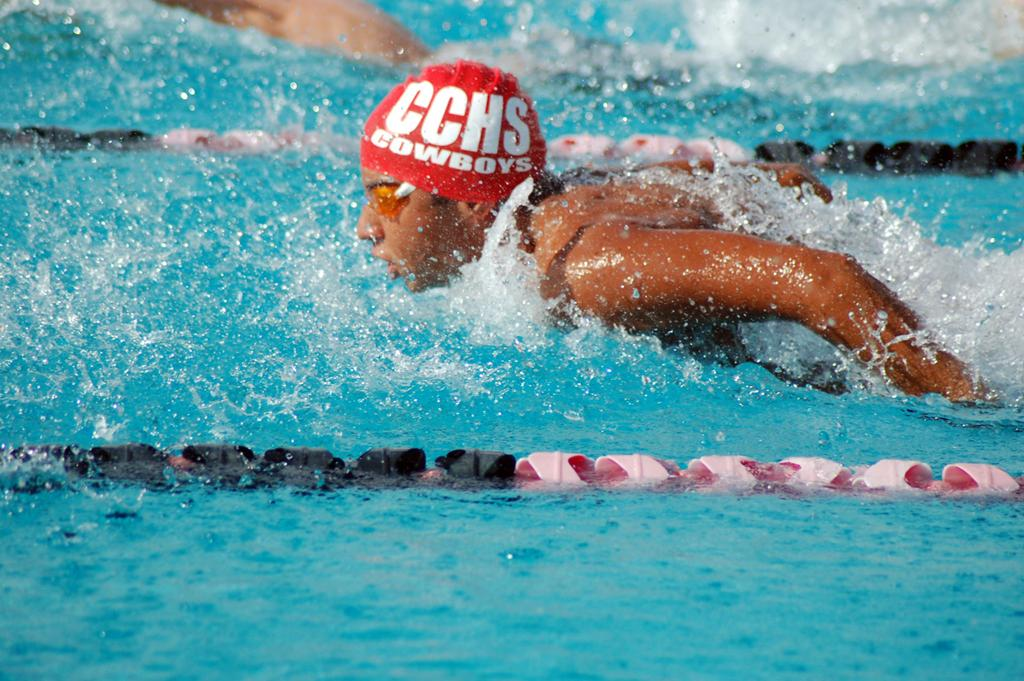face: (352, 148, 440, 292)
